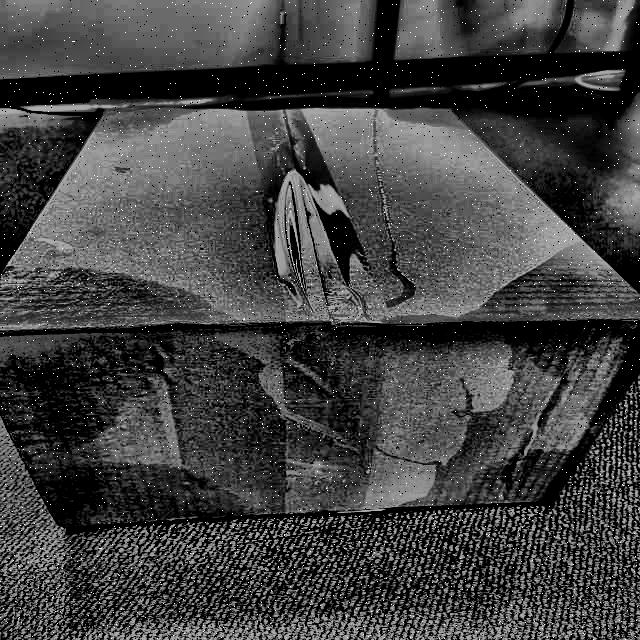box: (0, 100, 639, 533)
wet: (0, 256, 274, 539), (460, 246, 640, 530)
